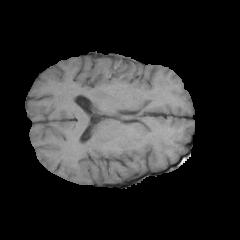glioma: (107, 55, 136, 82)
